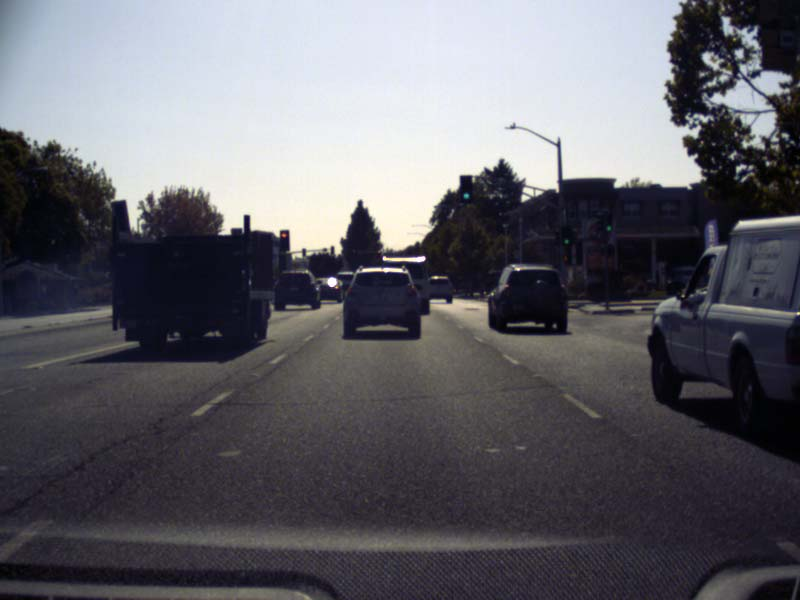Green: (459, 175, 473, 203), (560, 225, 571, 246), (603, 213, 612, 232)
Yellow: (279, 230, 289, 251), (376, 247, 381, 257)
